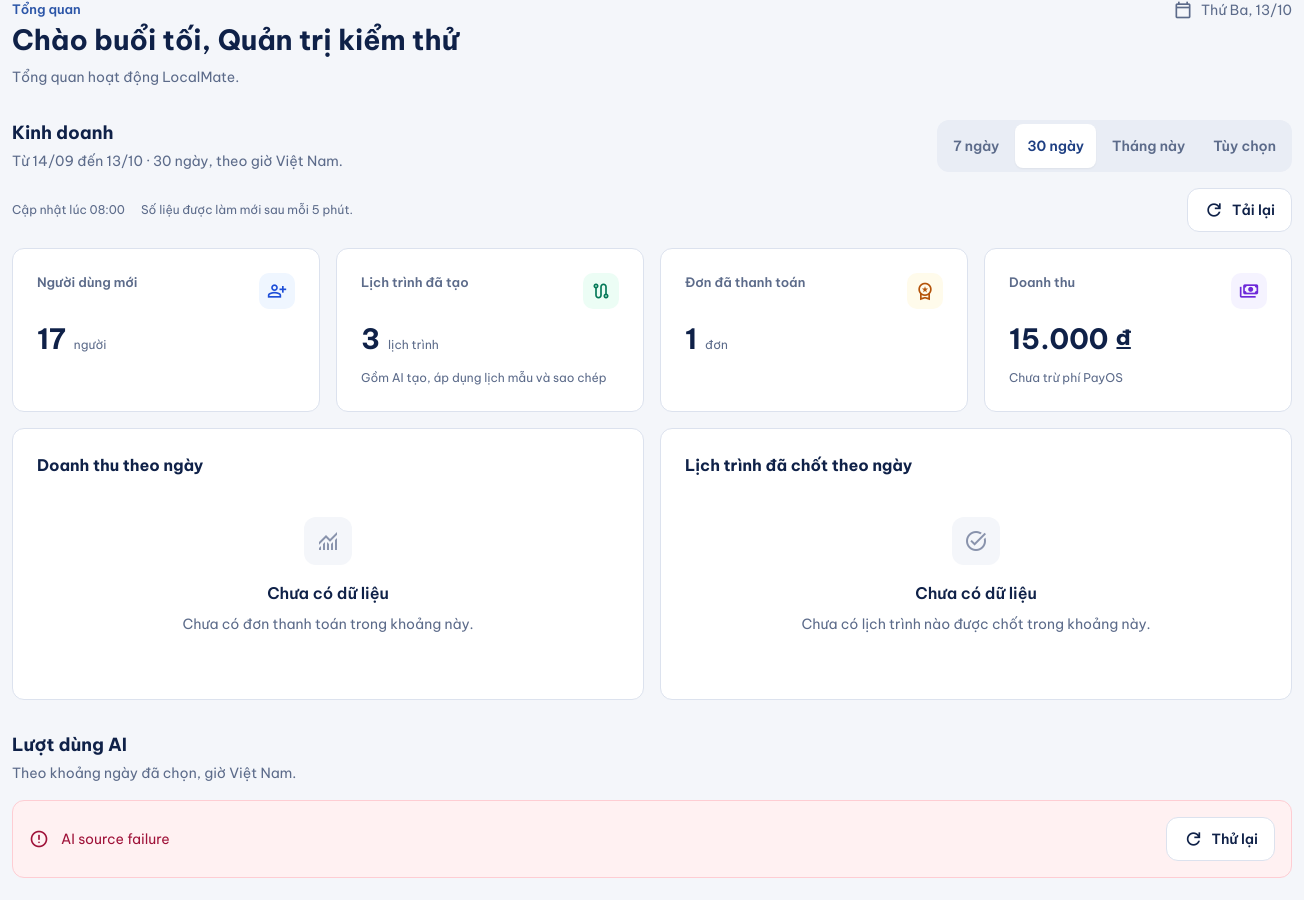
Test: FE2 real Dashboard AI integration › D13 other errors stay source-owned and retryable
Check: the message shows "AI source failure", box [61,830,170,848]
Click the button "Thử lại".
click(1221, 839)  # box [1166,817,1275,861]
(page scrolled)
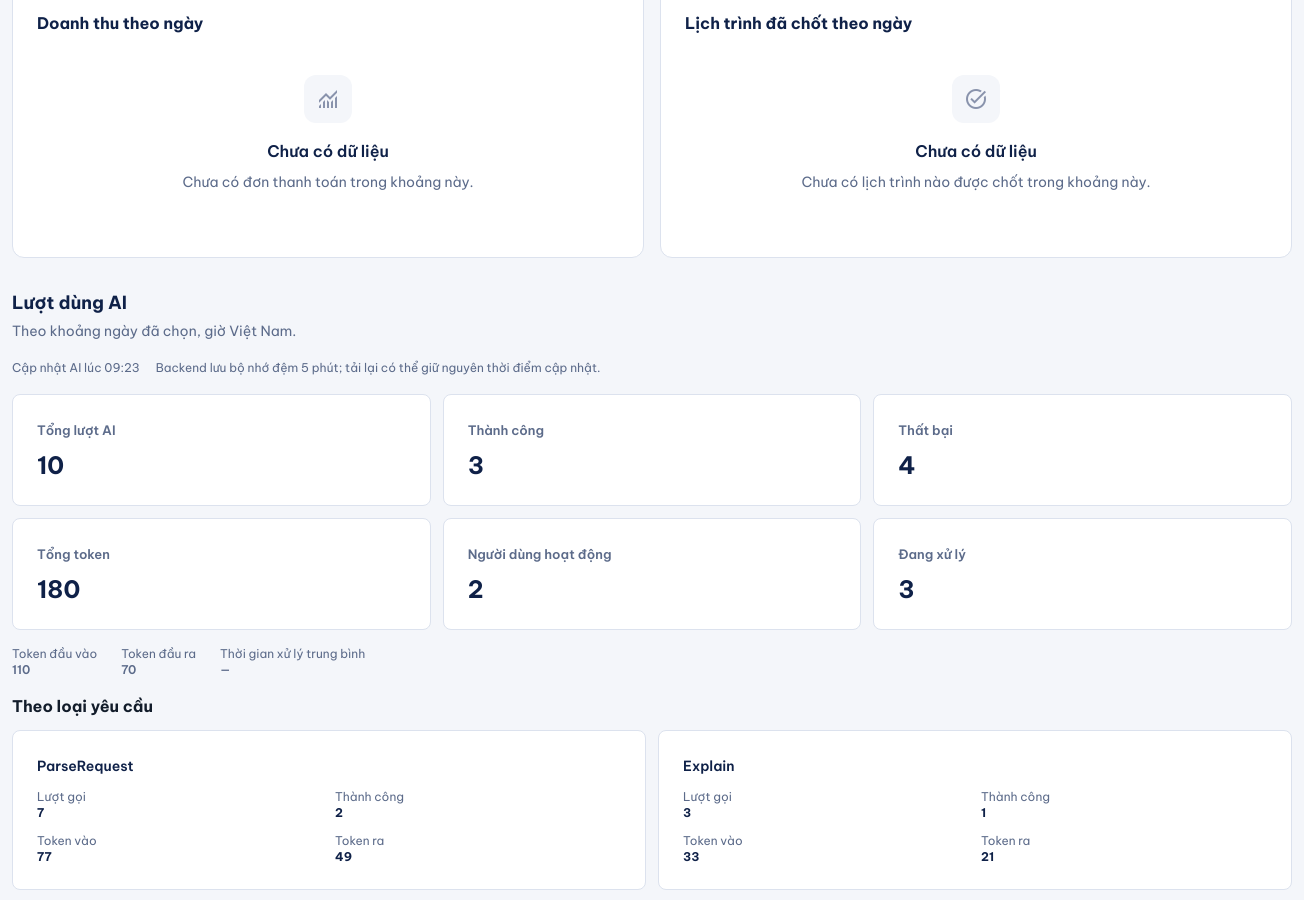
Check: the element "Tổng lượt AI" is shown, box [12,394,431,506]
